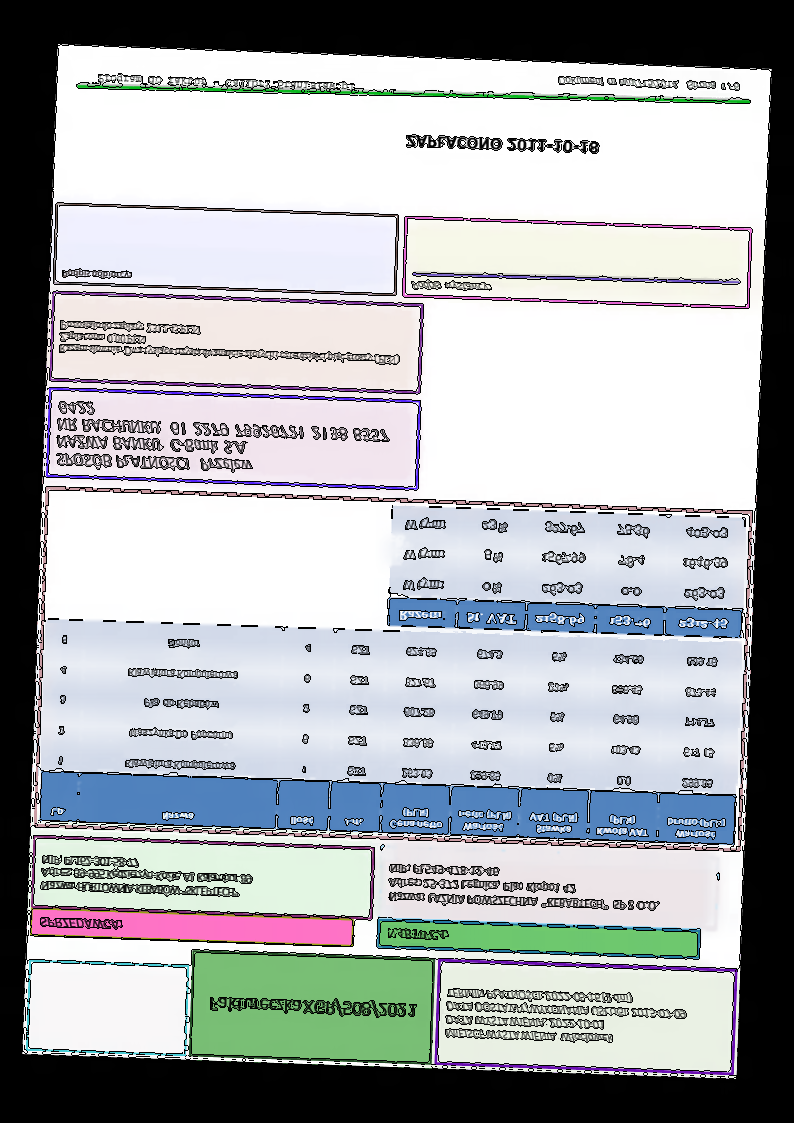Table: (37, 618, 741, 847), (385, 503, 744, 641)
TextBox: (53, 393, 395, 483), (54, 313, 406, 369), (440, 981, 690, 1050), (385, 857, 666, 917), (35, 850, 258, 902), (203, 990, 418, 1024), (94, 70, 358, 97), (399, 129, 604, 161), (553, 71, 743, 98), (407, 272, 493, 299), (34, 912, 124, 934), (56, 263, 134, 284), (382, 925, 449, 946)
